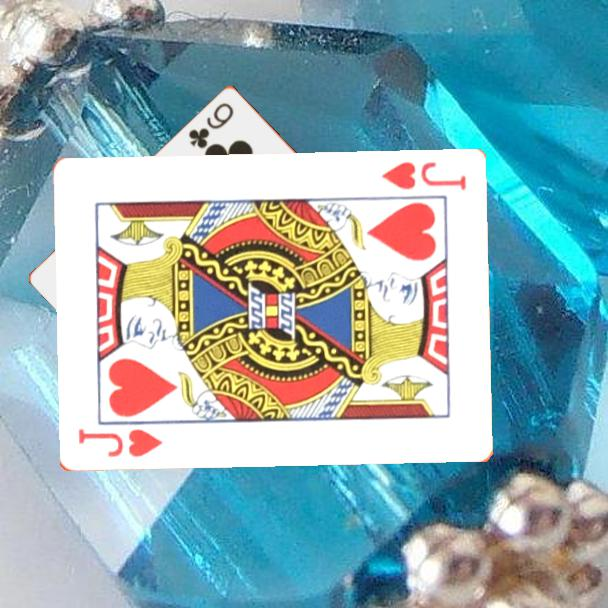c09: (185, 99, 237, 151)
h11: (74, 425, 165, 461), (378, 159, 469, 194)
